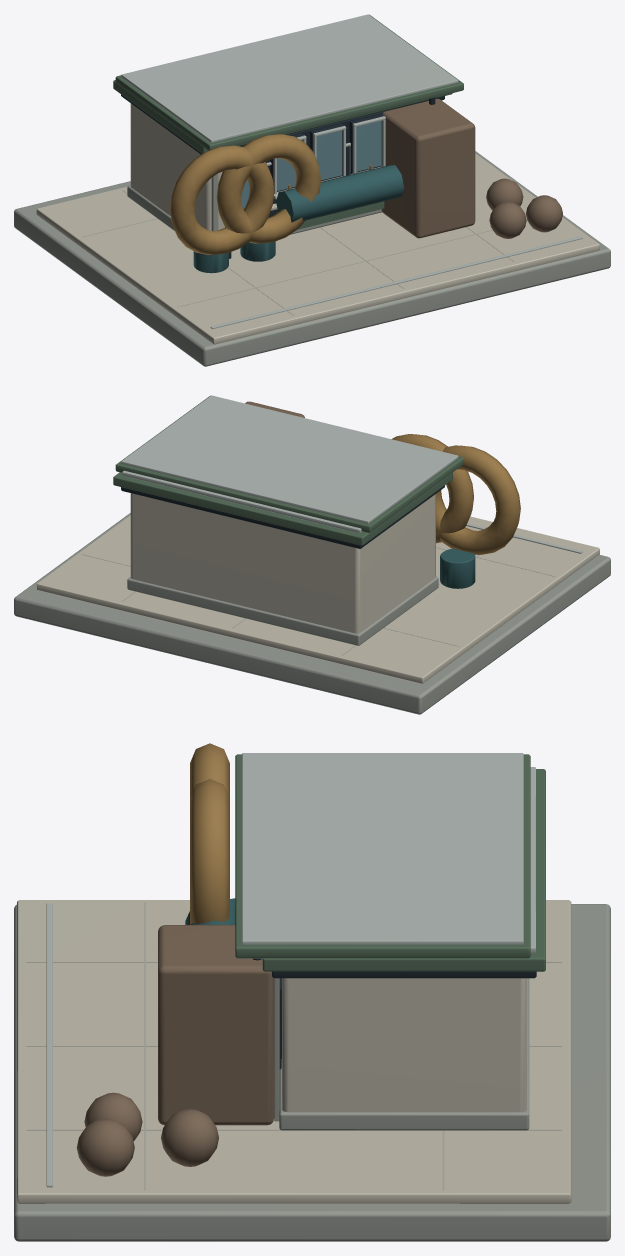
Rendered from idea-309ffd47.glb.
3 views of the same model, one above another, from view 1: azimuth 30°, elevation 25°; view 2: azimuth 150°, elevation 25°; view 3: azimuth 270°, elevation 25° (orthographic). The views are drawn at different scales.
Parts seen in each view (by area): view 1: HDHMR Circular Materials; view 2: HDHMR Circular Materials; view 3: HDHMR Circular Materials.
Part boxes in pixels (x1,y1,x2,y2): HDHMR Circular Materials: (14,14,610,366); HDHMR Circular Materials: (14,395,610,714); HDHMR Circular Materials: (14,743,610,1241).
Bounding box in the file's own units: 4.8 × 1.75 × 3.9.
